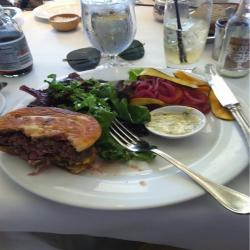burger: (2, 106, 104, 180)
salad: (51, 80, 143, 122)
